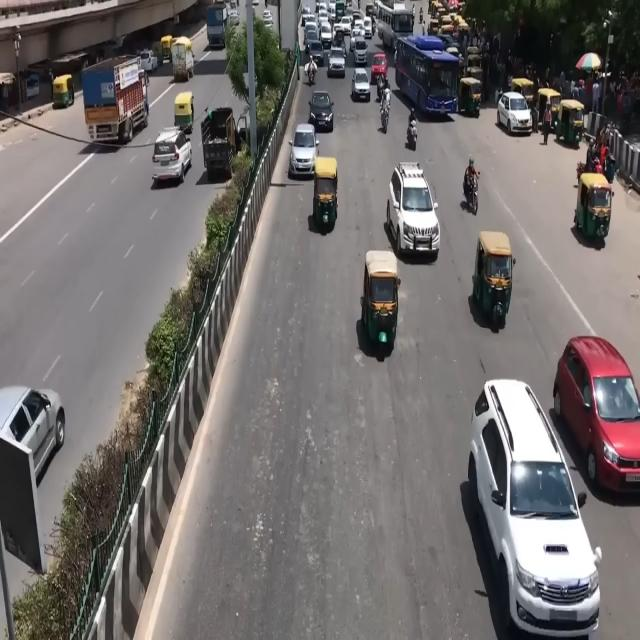auto: (387, 160, 439, 258), (472, 230, 514, 329), (361, 250, 398, 348), (574, 171, 614, 242), (312, 156, 339, 230), (556, 98, 586, 146), (172, 35, 196, 83), (537, 88, 562, 134), (459, 75, 482, 119), (173, 91, 194, 135), (510, 77, 536, 111), (52, 74, 75, 109), (465, 66, 483, 92), (453, 18, 470, 42), (160, 35, 173, 63), (467, 45, 482, 69)
bike-auto: (581, 134, 604, 179), (464, 173, 480, 215), (379, 91, 389, 131), (407, 106, 417, 142), (376, 71, 386, 103), (306, 57, 317, 84), (412, 4, 416, 23), (419, 6, 423, 24)
